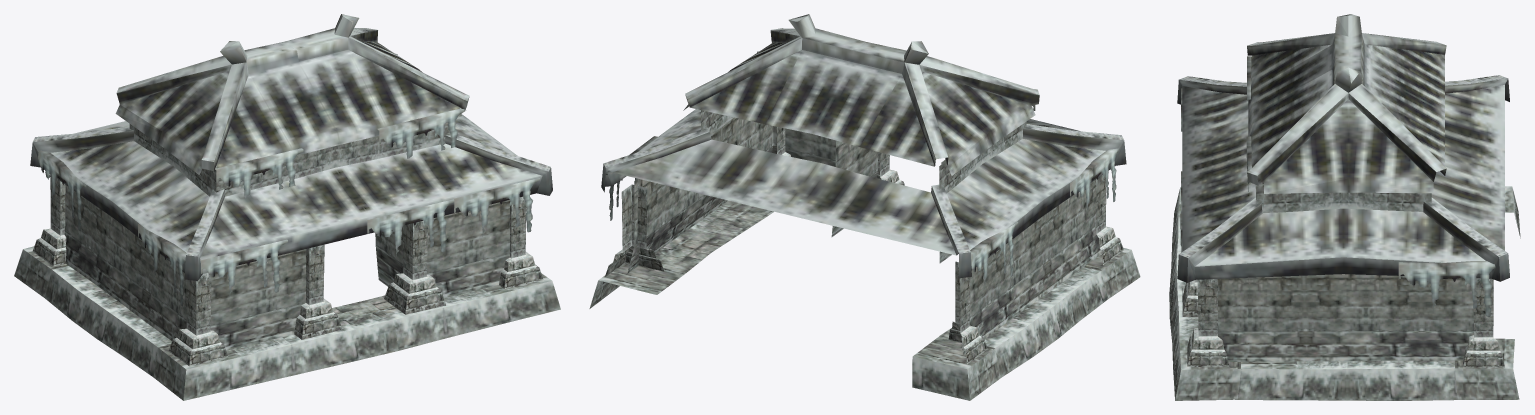
Rendered from S_Build_Snowland092.FBX.
3 views of the same model, side by side, from view 1: azimuth 30°, elevation 25°; view 2: azimuth 150°, elevation 25°; view 3: azimuth 270°, elevation 25° (orthographic).
Parts seen in each view (by area): view 1: S_Build_Snowland092; view 2: S_Build_Snowland092; view 3: S_Build_Snowland092.
Boxes of the visible parts, x1,y1,x2,y2 form: S_Build_Snowland092: (14, 14, 560, 400); S_Build_Snowland092: (589, 14, 1140, 400); S_Build_Snowland092: (1169, 14, 1520, 400).
Bounding box in the file's own units: 1395 × 1089 × 917.
